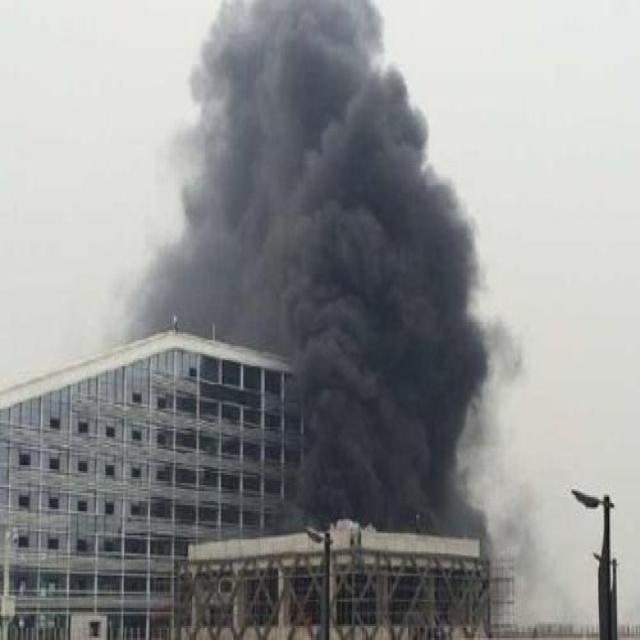Smoke: (122, 0, 488, 532)
